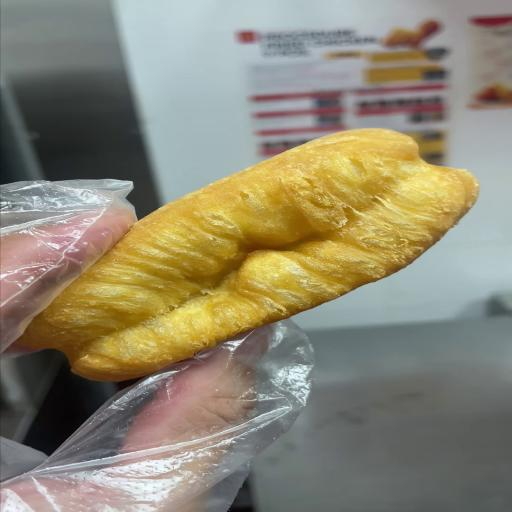brand_golden_good: (20, 129, 478, 380)
